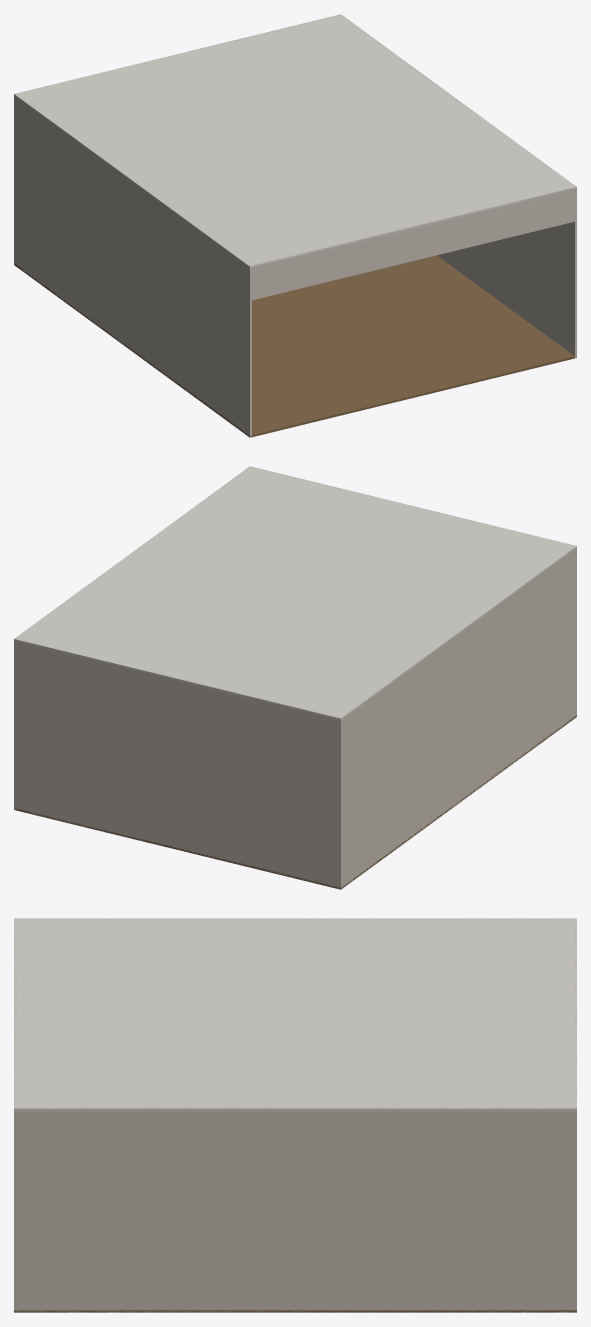
File: library_warm_001.glb
The picture shows the model from 3 angles, top to bottom: view 1: azimuth 30°, elevation 25°; view 2: azimuth 150°, elevation 25°; view 3: azimuth 270°, elevation 25°; orthographic projection. The views are drawn at different scales.
Parts seen in each view (by area): view 1: ceiling, left_wall, floor, front_top, right_wall, back_wall; view 2: ceiling, back_wall, left_wall, floor; view 3: right_wall, ceiling, floor, back_wall.
Boxes of the visible parts, box(x1,y1,x2,y2) form: ceiling: box(14, 14, 576, 268); left_wall: box(14, 94, 251, 437); floor: box(14, 255, 576, 437); front_top: box(248, 188, 576, 300); right_wall: box(340, 14, 576, 358); back_wall: box(14, 15, 341, 265); ceiling: box(14, 466, 576, 720); back_wall: box(14, 639, 341, 889); left_wall: box(339, 548, 576, 889); floor: box(14, 715, 576, 889); right_wall: box(14, 1107, 576, 1312); ceiling: box(14, 918, 576, 1111); floor: box(14, 1310, 576, 1312); back_wall: box(574, 918, 576, 1310).
Size of the model in its own units: 8 by 4 by 10.
